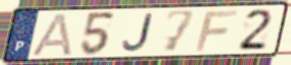2: (234, 8, 276, 52)
5: (78, 10, 118, 57)
7: (163, 9, 195, 55)
A: (30, 12, 74, 57)
F: (193, 9, 241, 53)
J: (120, 12, 155, 53)
